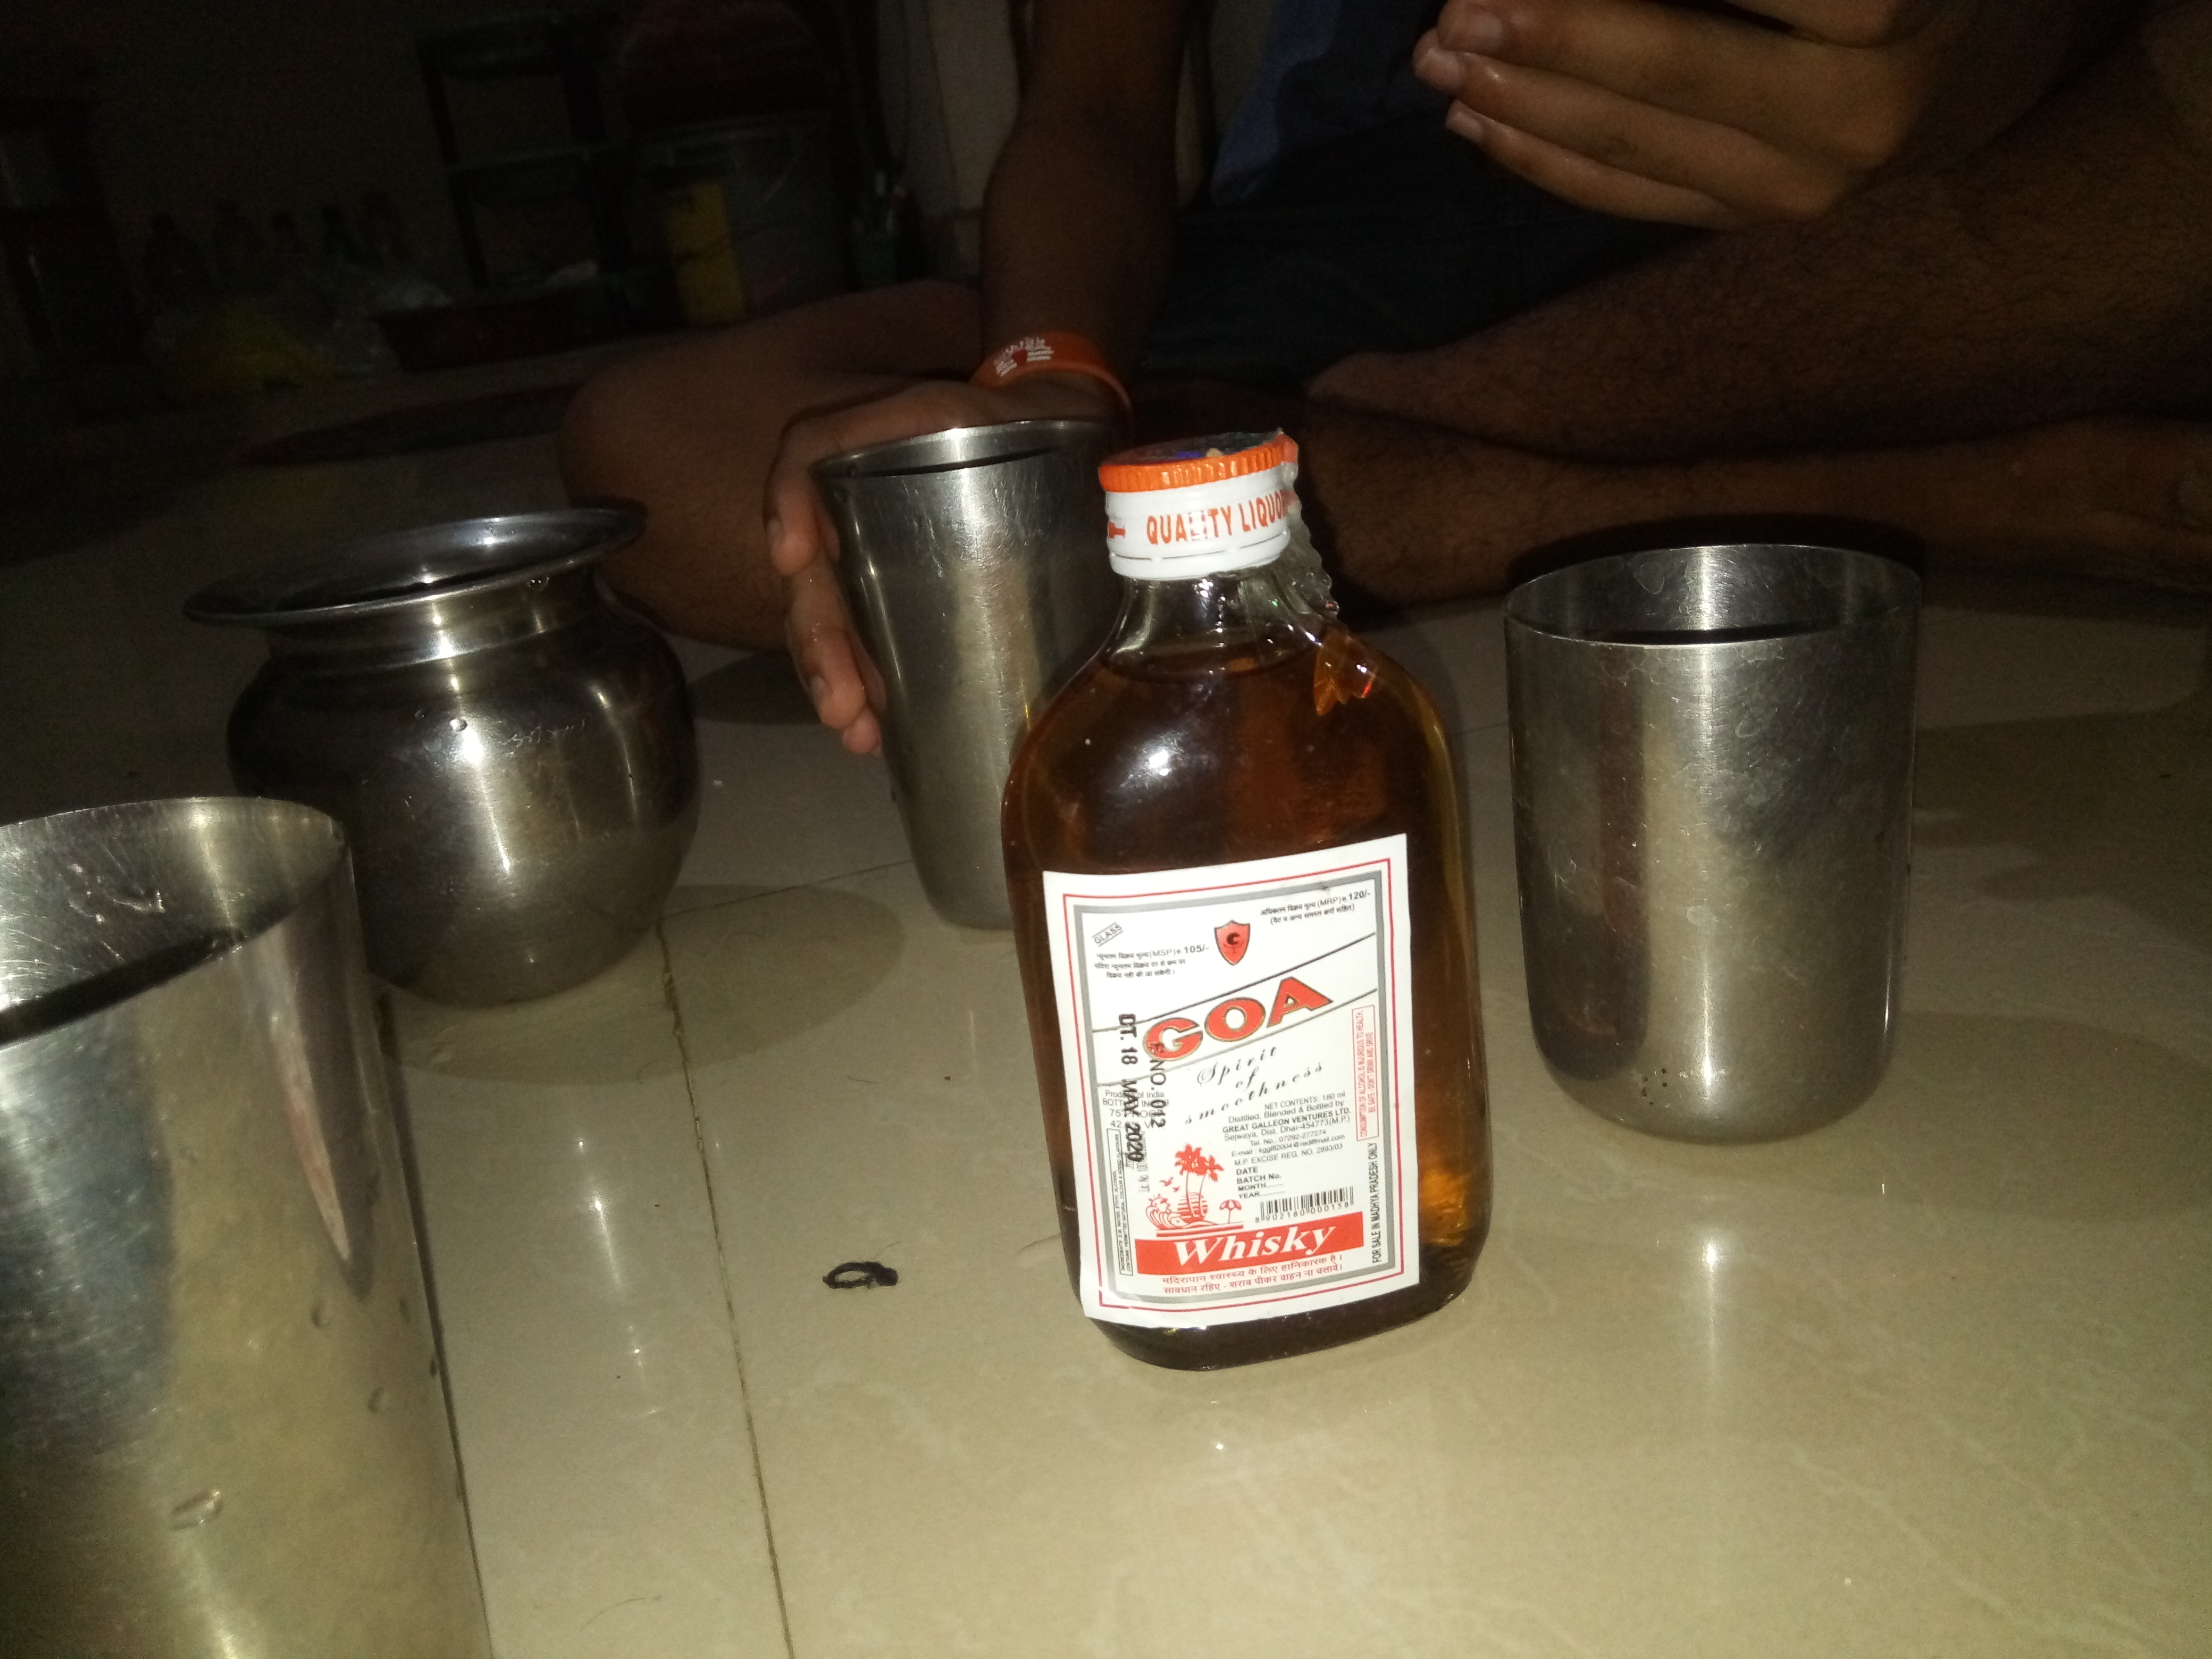glass_bottle: (972, 410, 1512, 1394)
